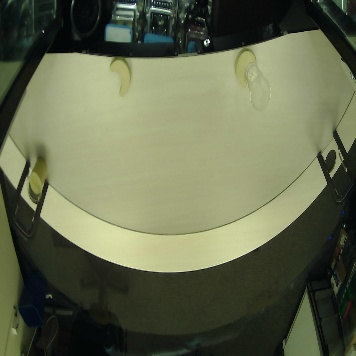empty_cup: (247, 63, 272, 110)
full_cup: (28, 156, 48, 199)
puck: (110, 56, 132, 97), (235, 46, 257, 87)
